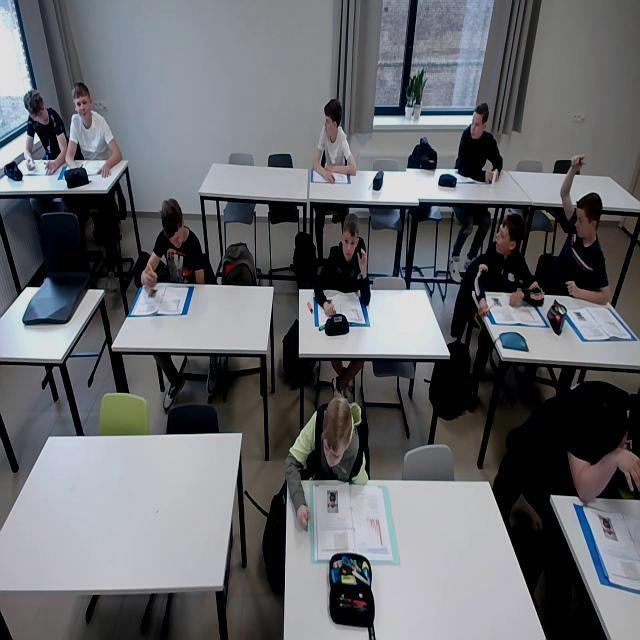Looking away: (492, 216, 518, 255), (30, 93, 51, 126), (468, 108, 488, 138), (323, 102, 341, 135)
Looking forward: (70, 83, 93, 122), (340, 222, 358, 261)
Raising hand: (548, 152, 610, 306)
Reading-writing: (288, 398, 383, 531), (142, 202, 205, 301)
